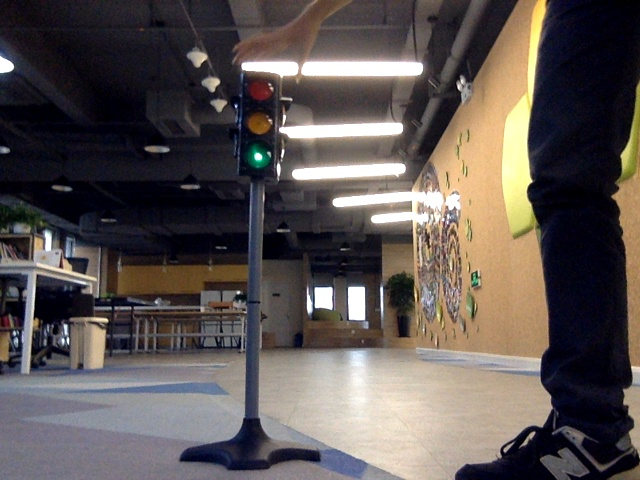green: (242, 76, 279, 178)
